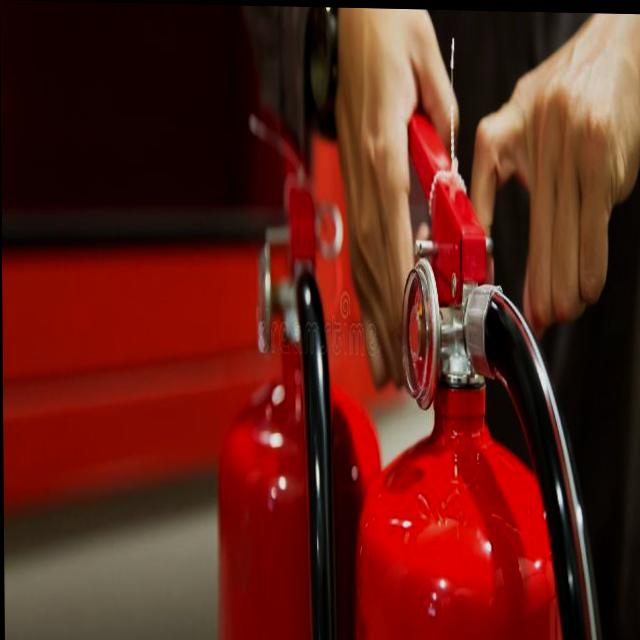FireExtinguisher: (343, 62, 635, 640), (204, 84, 390, 640)
